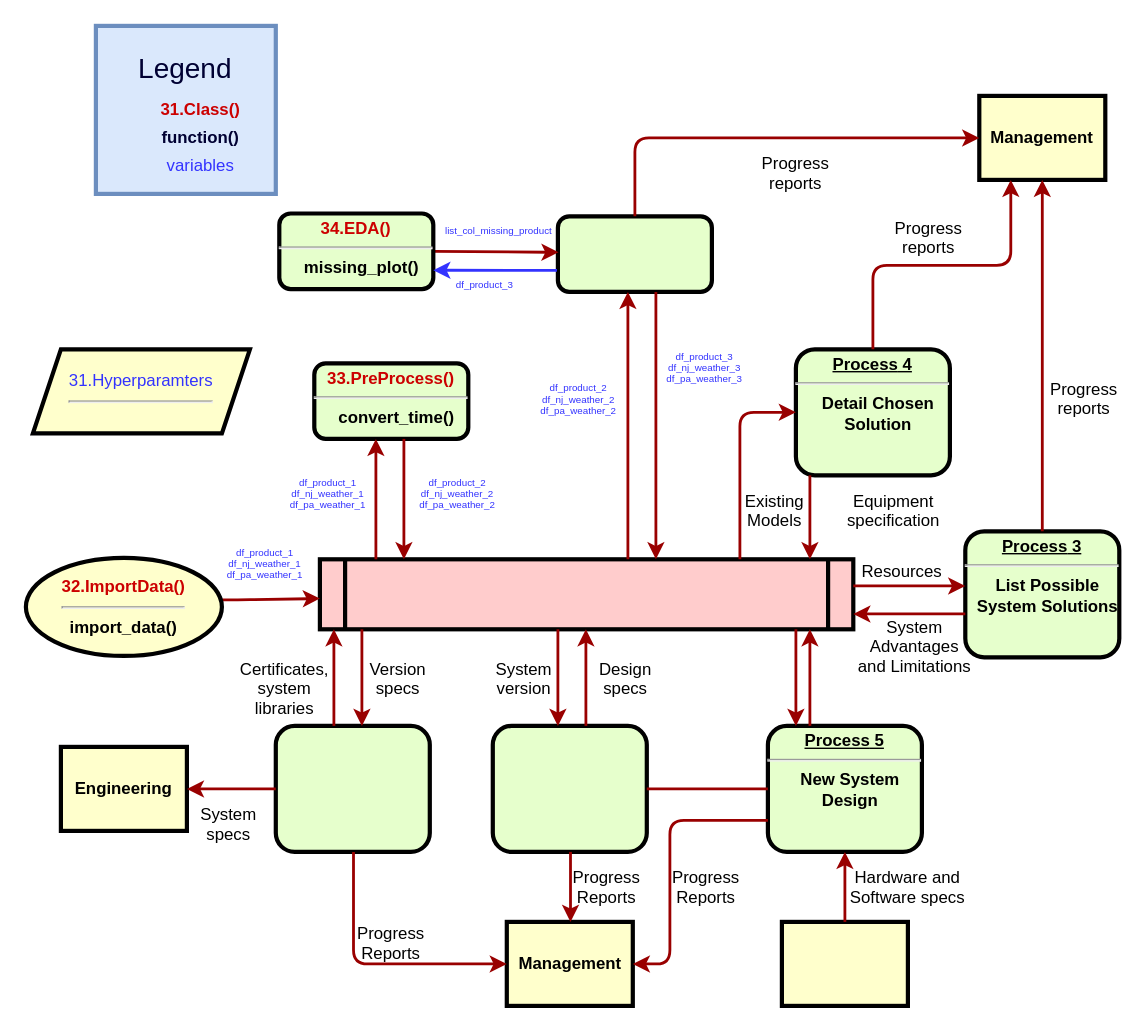
Image size: 1145x1032. Some labels were removed from this diagram. Each missing label, with the centre of its shape:
33.PreProcess drop_col(): (x=634, y=253)
if __name__=="__main__": (x=586, y=593)
Process 6 New System Construction: (x=352, y=788)
Process 7 New System Startup and Testing: (x=569, y=788)
Vendors: (x=844, y=963)
